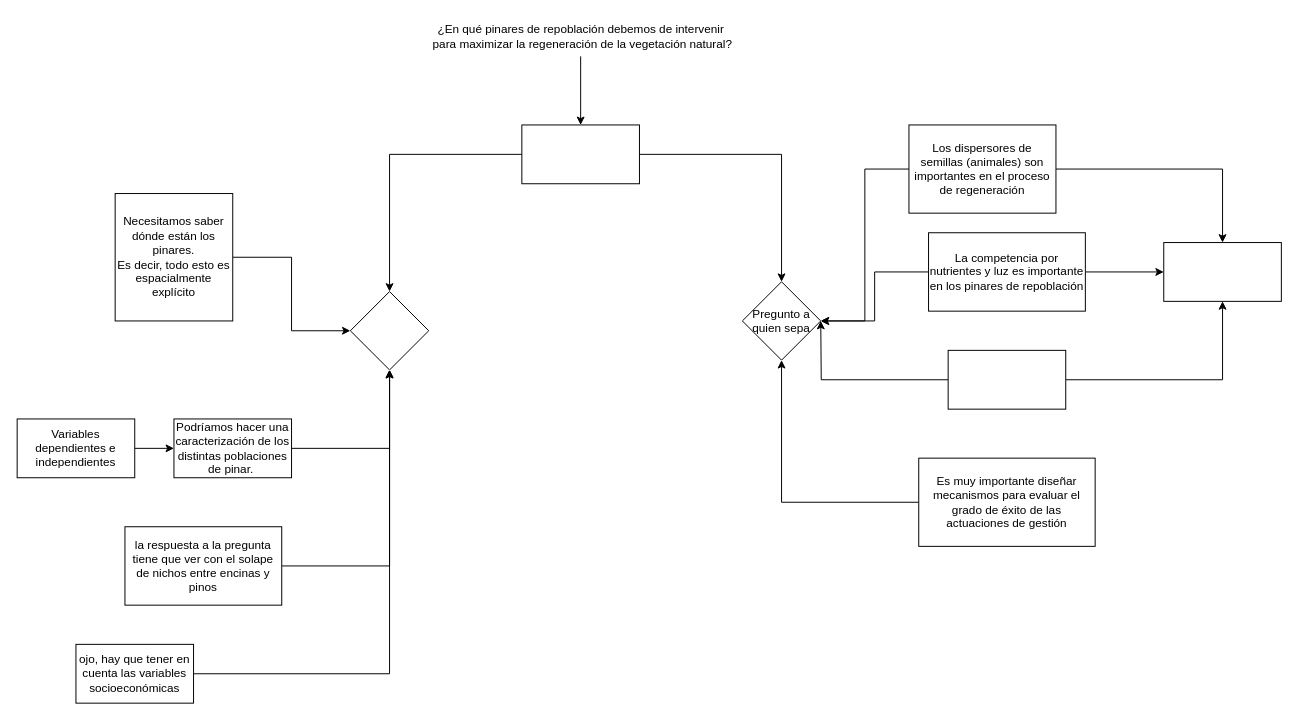
The diagram is 1299 pixels wide and 720 high, and some of its shapes have lost their labels. The shapes that lost their labels are listed below. From the top down, each one's centre as x and y in pixels, then its label:
At point (580, 154): "Pregunta imposible (no sabemos qué hacer)".
At point (1222, 271): "Evaluación o caracterización del terreno".
At point (389, 330): "Apelo a lo que sé".
At point (1006, 379): "Solo podremos actuar en los pinares en los que se pueda según la ley".
